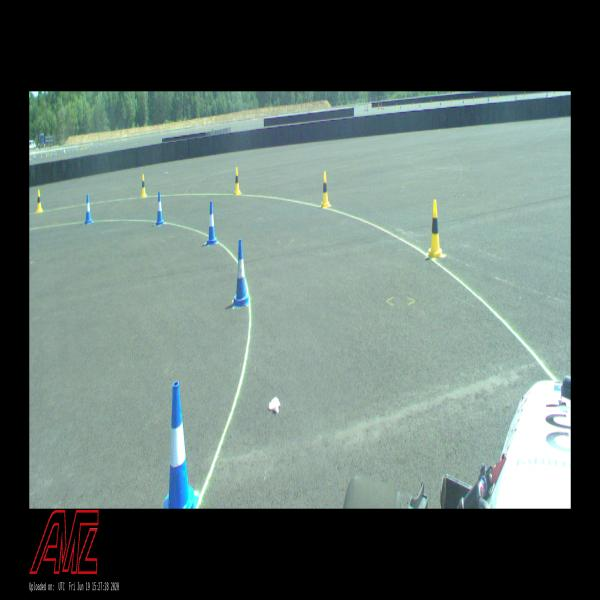blue_cone: (164, 383, 199, 508), (233, 239, 249, 305), (206, 201, 218, 244), (155, 192, 165, 225), (84, 194, 92, 225)
yellow_cone: (426, 200, 444, 256), (320, 172, 330, 206), (234, 168, 241, 195), (140, 174, 147, 197), (36, 190, 43, 212)
